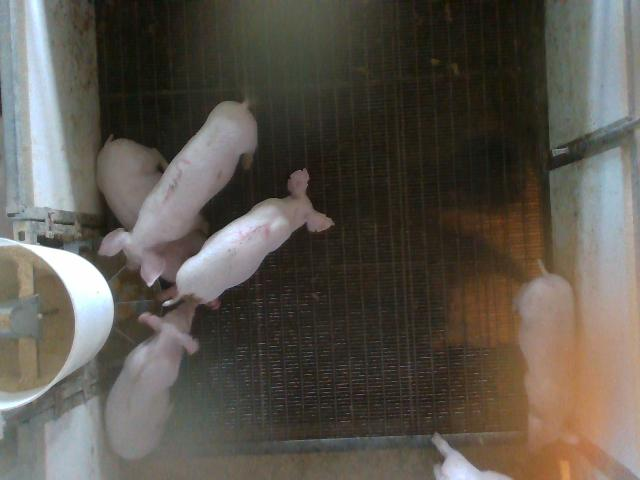pig-3: (100, 102, 258, 286)
pig-5: (165, 169, 333, 304)
